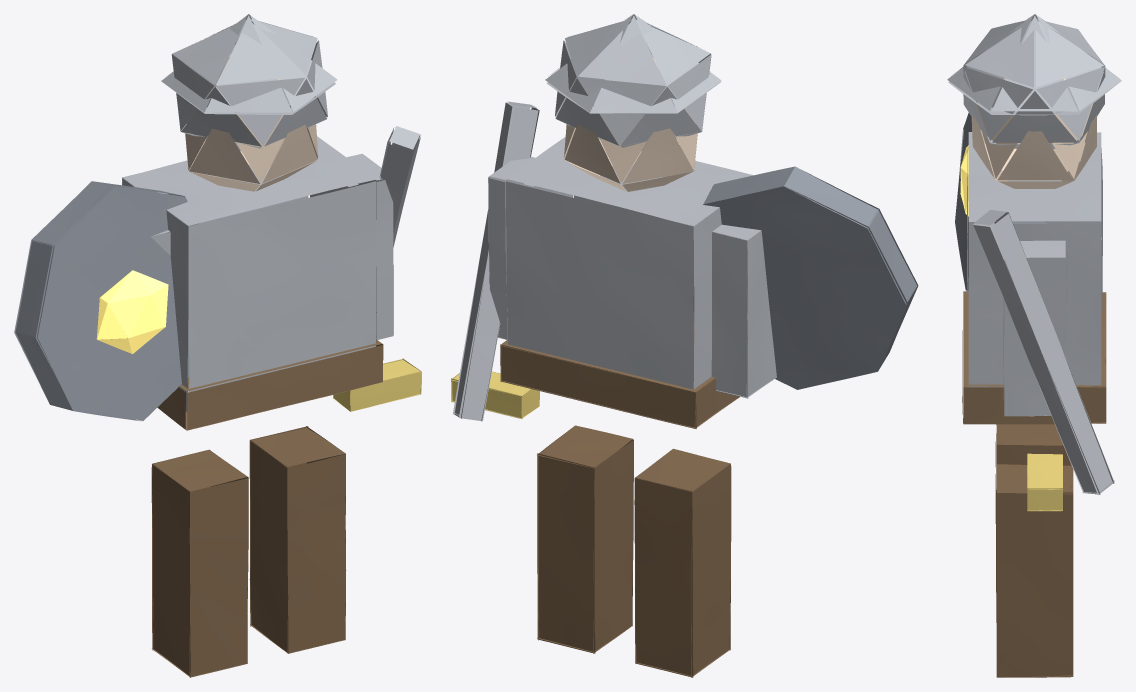
File: knight.glb
The picture shows the model from 3 angles, left to right: view 1: azimuth 30°, elevation 25°; view 2: azimuth 150°, elevation 25°; view 3: azimuth 270°, elevation 25°; orthographic projection.
Parts seen in each view (by area): view 1: SettlerLegL; view 2: SettlerLegL; view 3: SettlerLegL.
Boxes of the visible parts, left/top/right/bottom form: SettlerLegL: left=14, top=14, right=421, bottom=677; SettlerLegL: left=451, top=14, right=918, bottom=677; SettlerLegL: left=947, top=14, right=1121, bottom=677.
Size of the model in its own units: 0.9514 by 1.35 by 0.3427.
